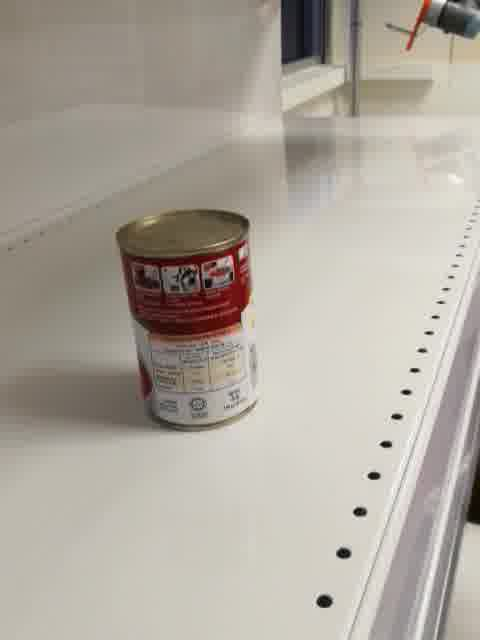tomatosoup: (113, 206, 261, 434)
